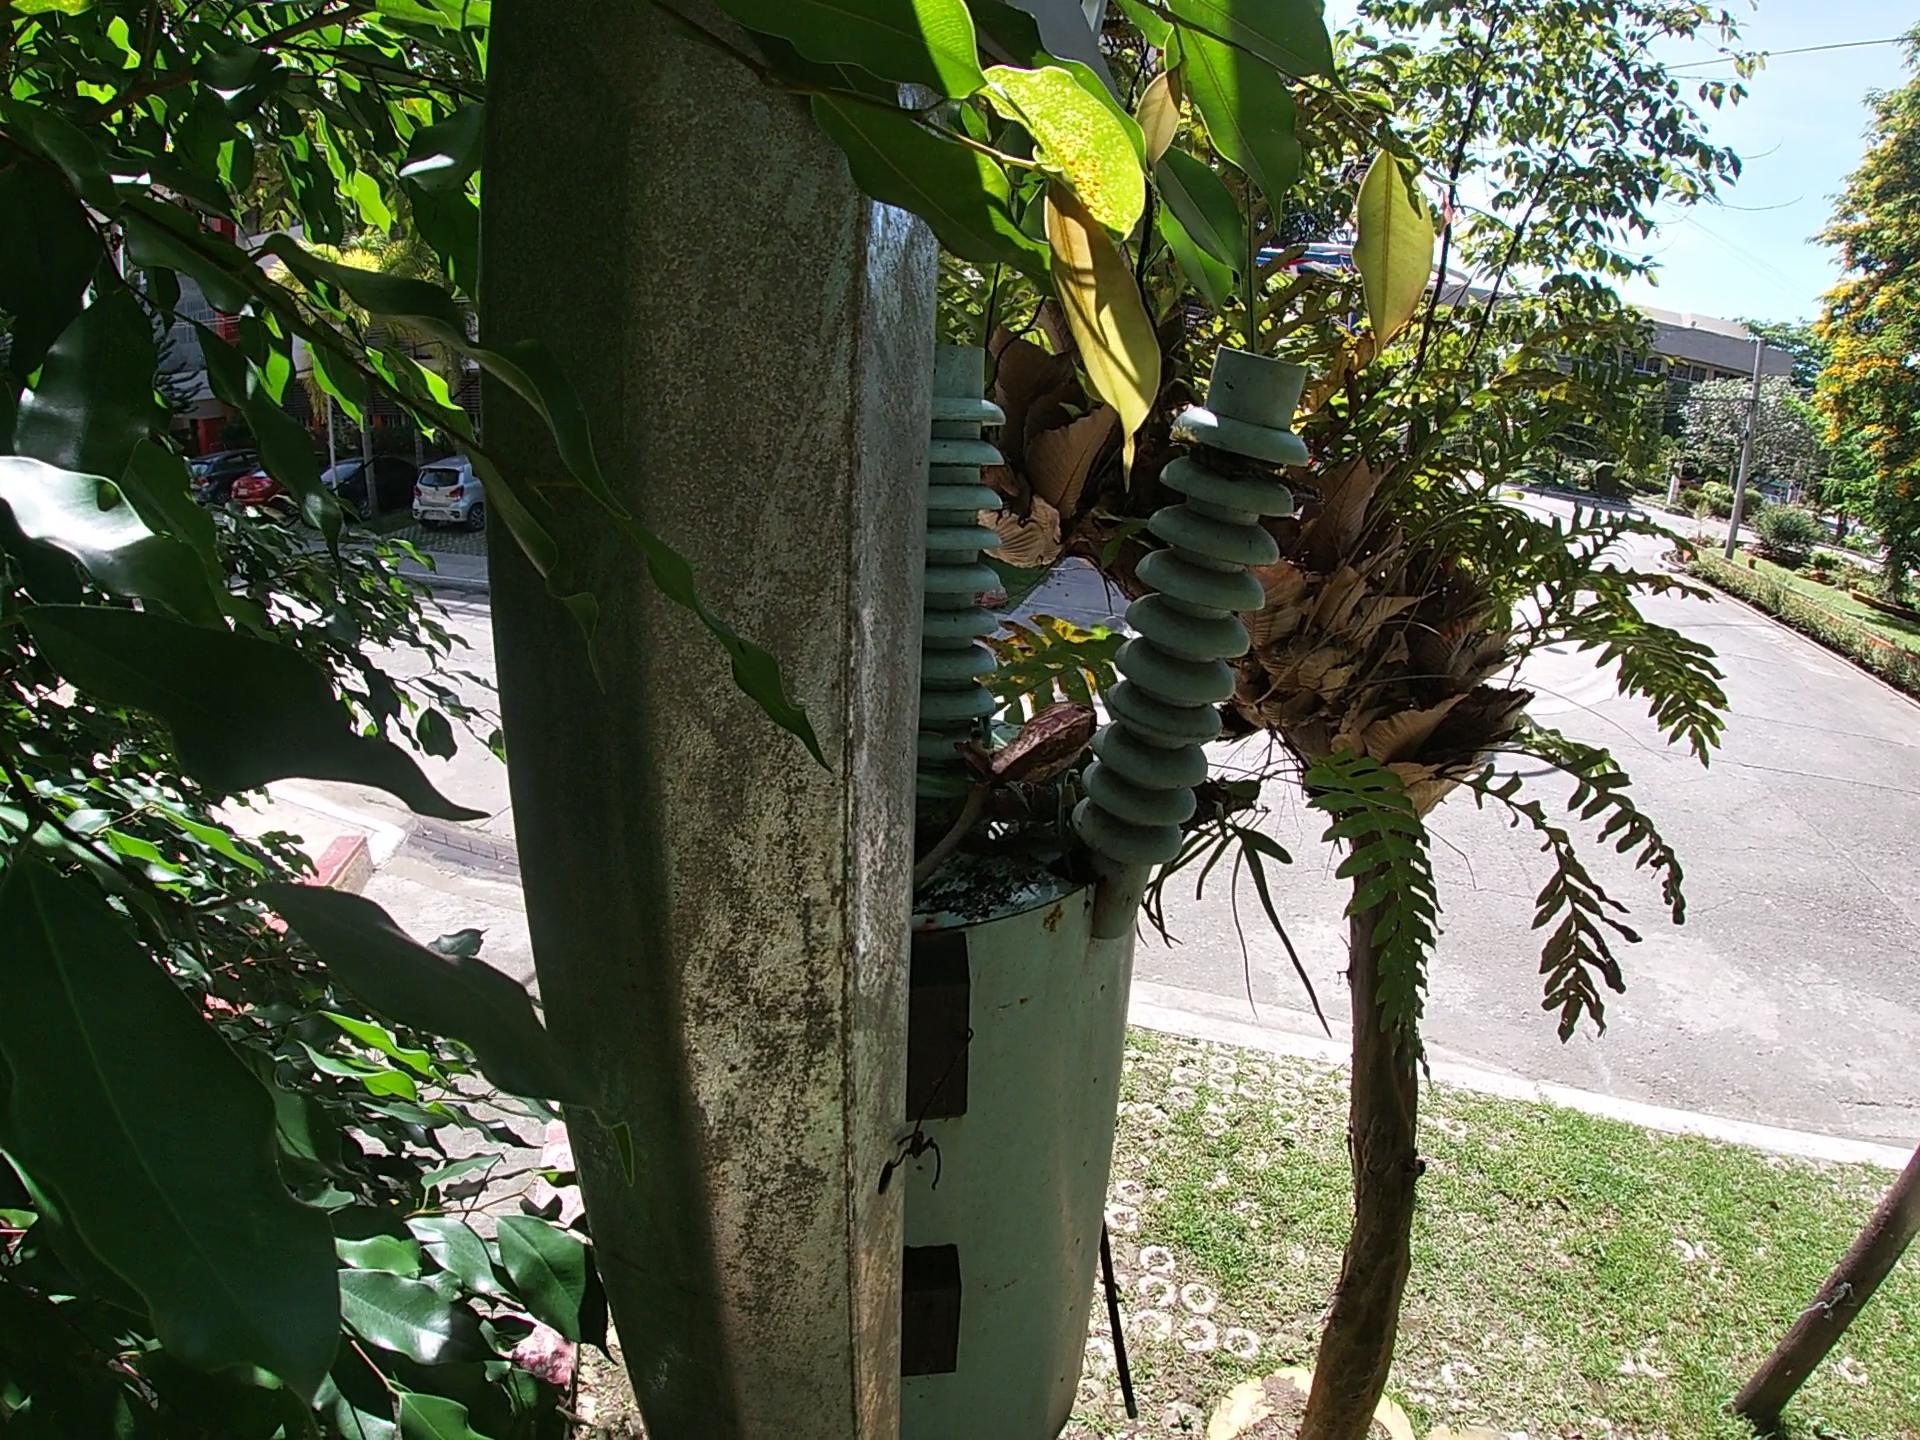branch with leaves: (971, 687, 1359, 883)
mahogany fruit: (981, 687, 1104, 821)
tree branch: (915, 791, 1002, 929)
